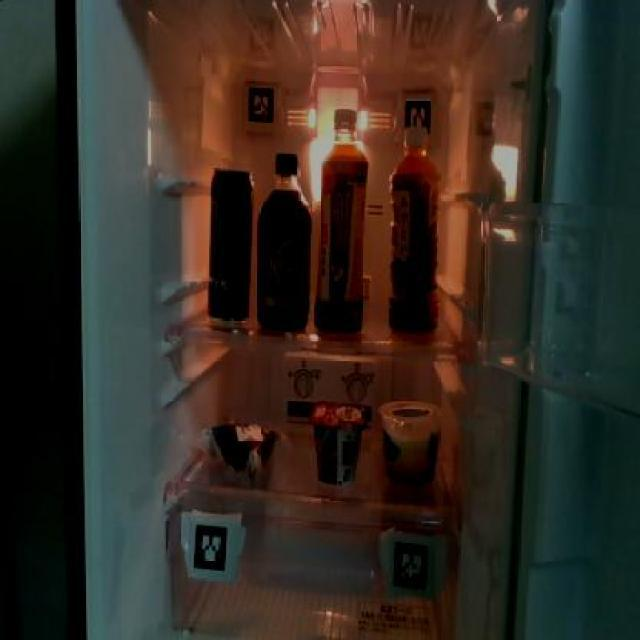coffee: (254, 151, 310, 331)
energy_drink: (206, 163, 252, 322)
pudding: (375, 396, 440, 486)
rice_ball: (204, 416, 278, 474)
tea_a: (388, 134, 441, 331)
tea_i: (316, 106, 369, 328)
yogurt: (308, 402, 362, 486)
